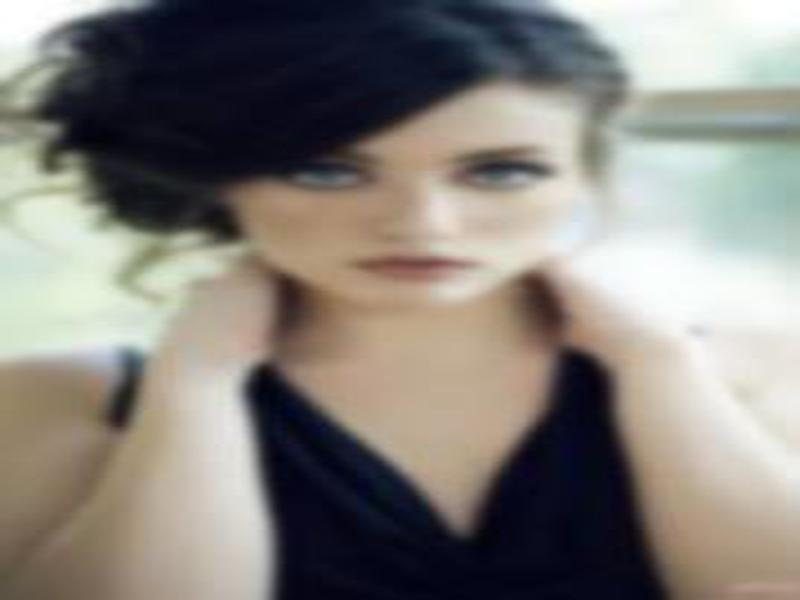without_mask: (238, 91, 583, 310)
